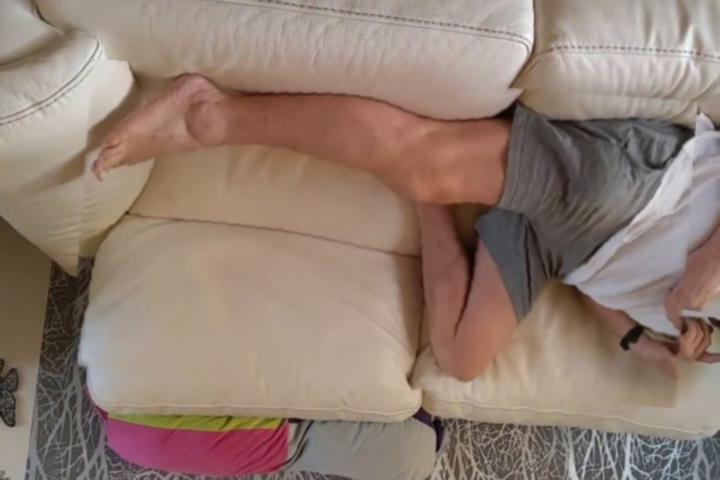lower_body: (76, 71, 693, 399)
